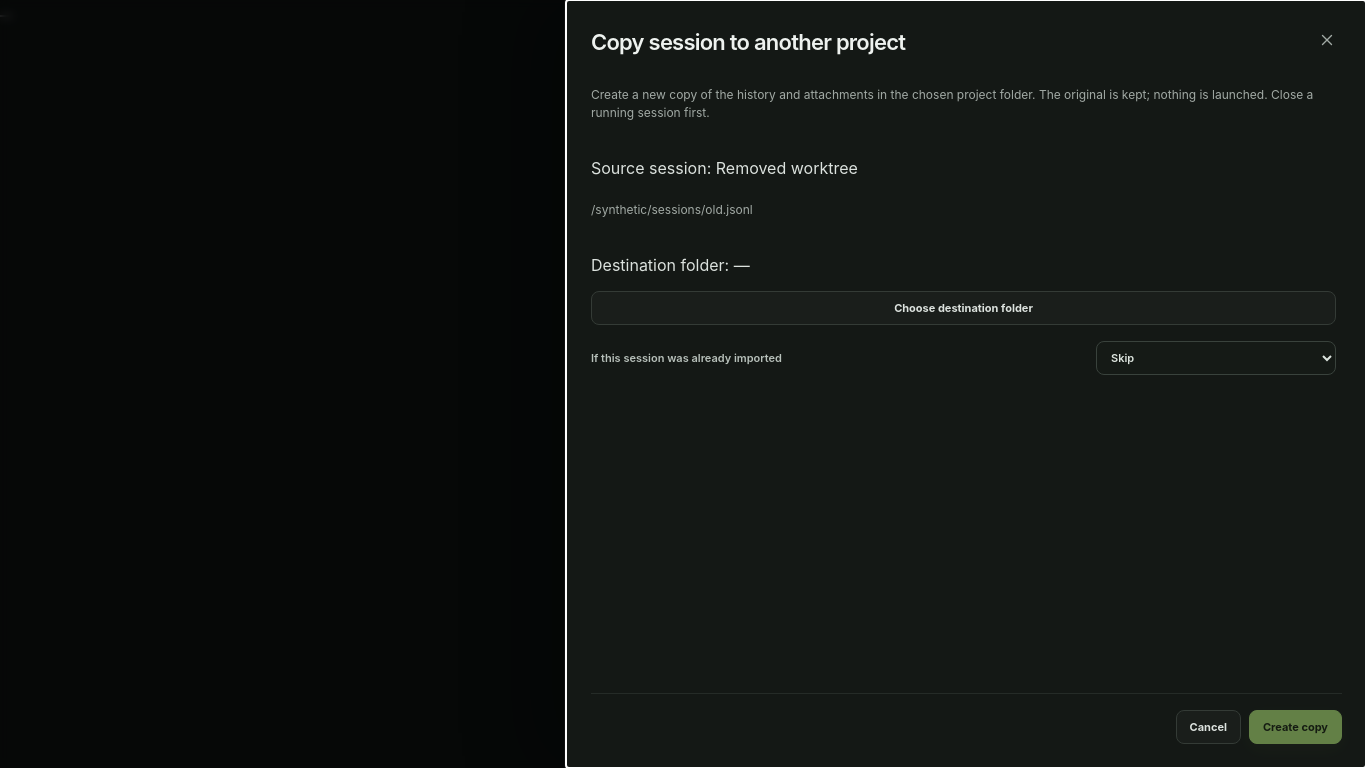
Test: Session copy confirmation › rejects invalid present warning values {"secretStorageWarning":{}}
Click the button "Choose destination folder" at point(964, 308), box [591,291,1336,325]
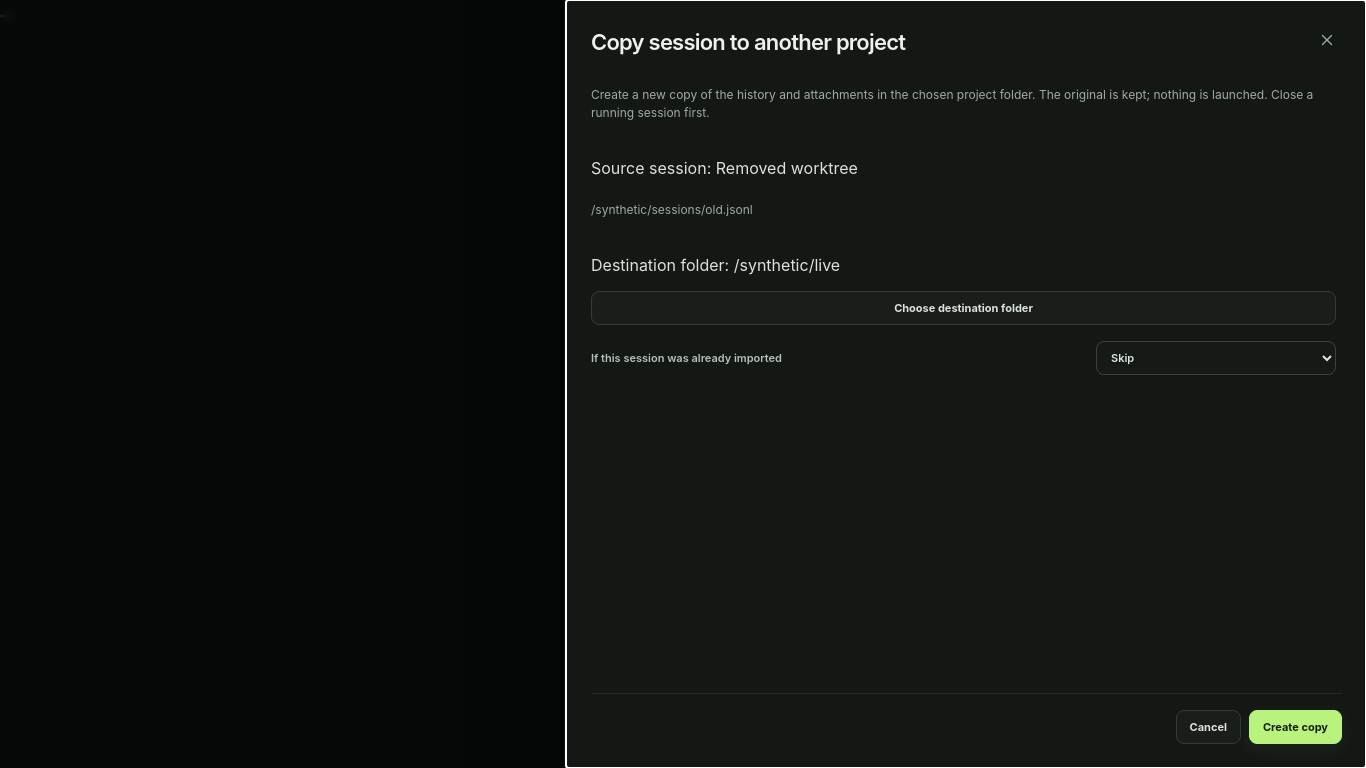
Click the button "Create copy" at point(1295, 727), box [1249,710,1342,744]
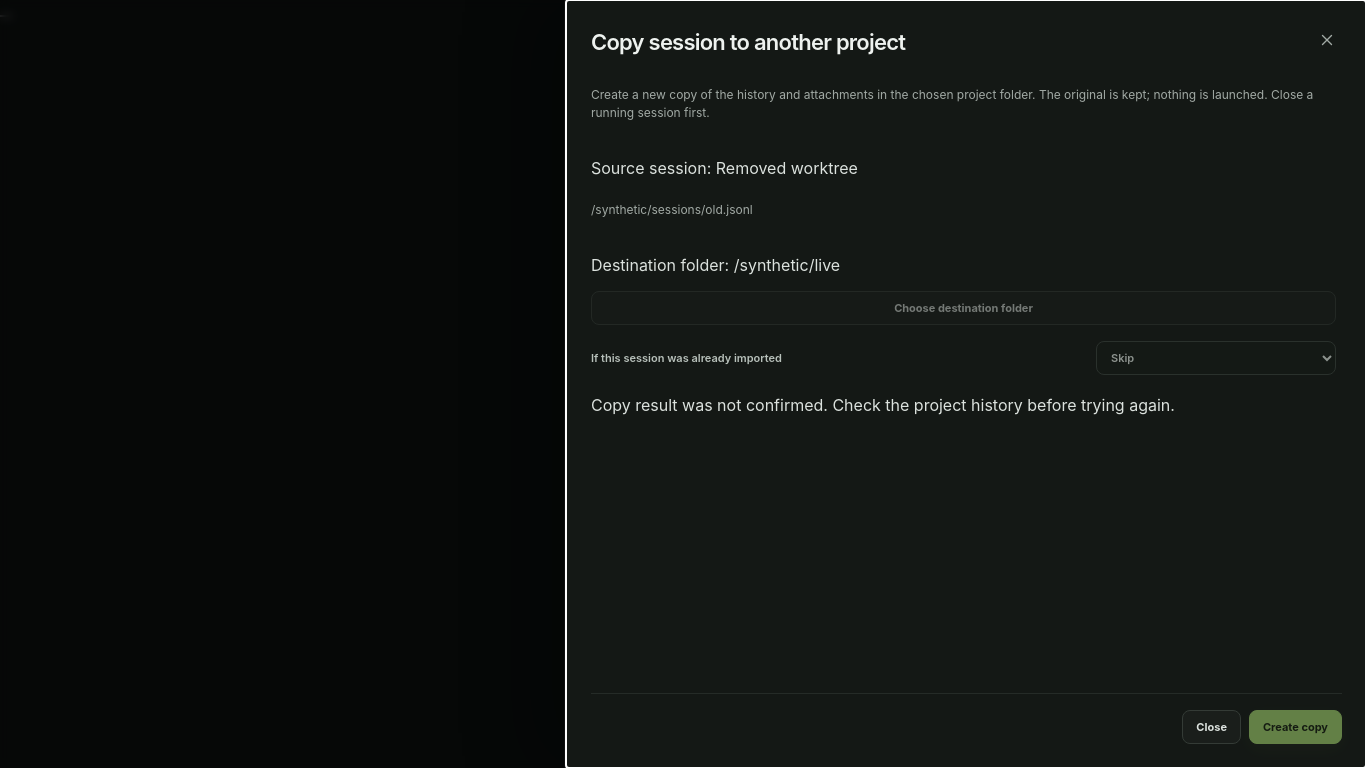
Now the message "Copy result was not confirmed. Check the project history before trying again." is shown, box [591,395,1175,415]
